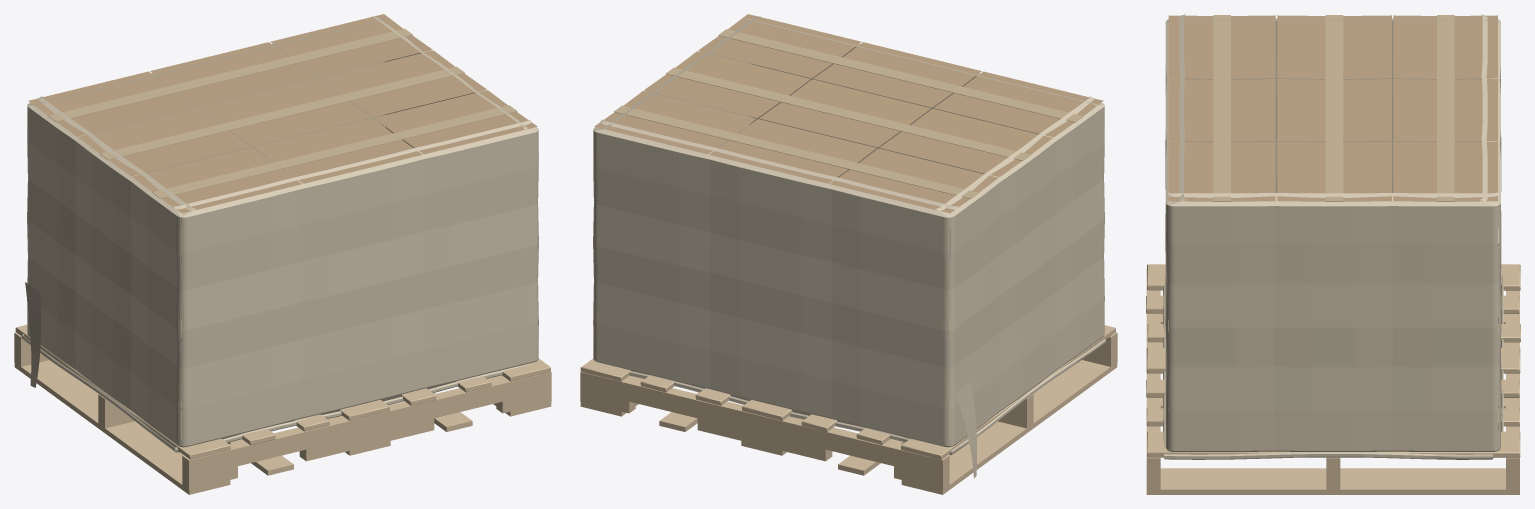
The model's file is Kit_PalletLoad_Wrapped.fbx.
The picture shows the model from 3 angles, left to right: view 1: azimuth 30°, elevation 25°; view 2: azimuth 150°, elevation 25°; view 3: azimuth 270°, elevation 25°; orthographic projection. The views are drawn at different scales.
Visible parts, largest first — view 1: Kit_PalletLoad_Wrapped_LOD0; view 2: Kit_PalletLoad_Wrapped_LOD0; view 3: Kit_PalletLoad_Wrapped_LOD0.
Part boxes in pixels (x1,y1,x2,y2): Kit_PalletLoad_Wrapped_LOD0: (14,14,551,494); Kit_PalletLoad_Wrapped_LOD0: (580,14,1117,494); Kit_PalletLoad_Wrapped_LOD0: (1146,14,1520,494).
Size of what is drawn, in the model's own units: 1.25 by 0.881 by 1.02.
